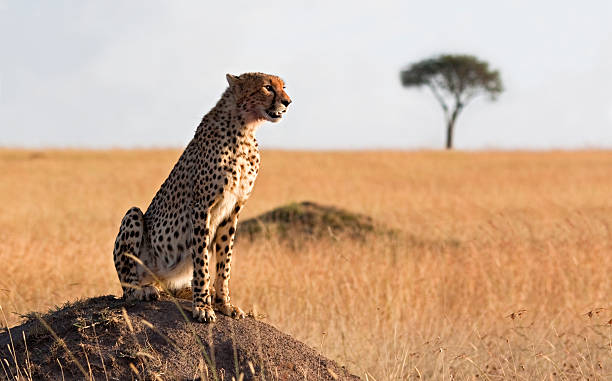cheetah: (218, 62, 303, 132)
